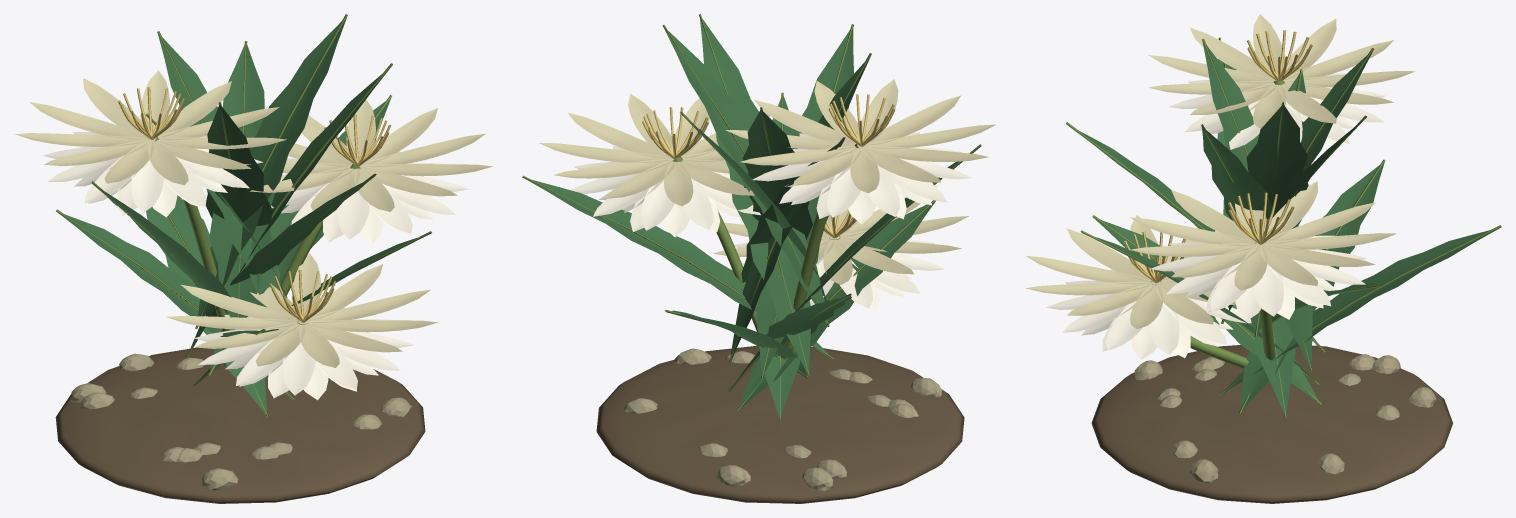
Rendered from epiphyllum.glb.
The picture shows the model from 3 angles, left to right: view 1: azimuth 30°, elevation 25°; view 2: azimuth 150°, elevation 25°; view 3: azimuth 270°, elevation 25°; orthographic projection.
Parts seen in each view (by area): view 1: epiphyllum-petal, epiphyllum-stone, epiphyllum-leaf; view 2: epiphyllum-stone, epiphyllum-petal, epiphyllum-leaf; view 3: epiphyllum-petal, epiphyllum-stone, epiphyllum-leaf.
Boxes of the visible parts, left/top/right/bottom form: epiphyllum-petal: left=14, top=70, right=492, bottom=400; epiphyllum-stone: left=55, top=347, right=425, bottom=503; epiphyllum-leaf: left=56, top=14, right=431, bottom=416; epiphyllum-stone: left=596, top=345, right=964, bottom=503; epiphyllum-petal: left=539, top=79, right=995, bottom=310; epiphyllum-leaf: left=522, top=14, right=981, bottom=420; epiphyllum-petal: left=1025, top=14, right=1415, bottom=359; epiphyllum-stone: left=1091, top=345, right=1452, bottom=503; epiphyllum-leaf: left=1066, top=37, right=1501, bottom=417.
Size of the model in its own units: 2.14 by 1.88 by 2.06.
